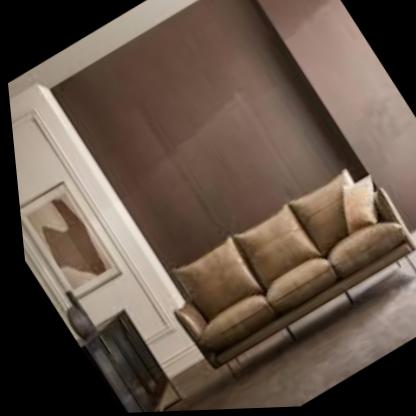Sofa: (118, 131, 416, 408)
